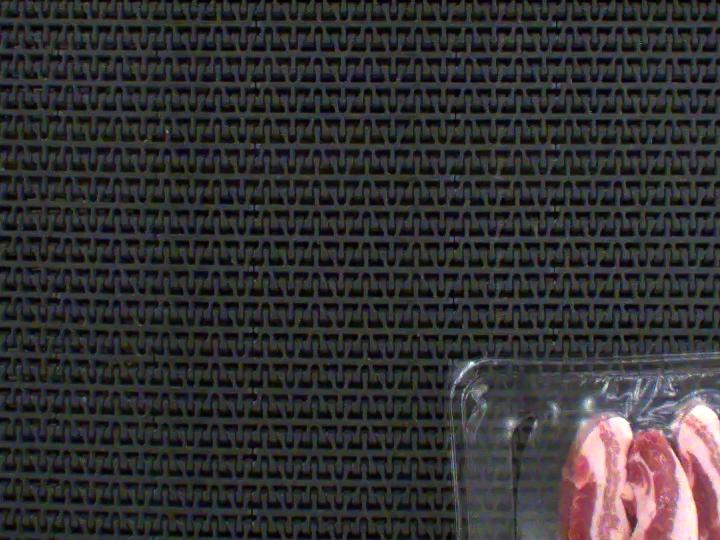unsealed: (467, 365, 720, 540)
